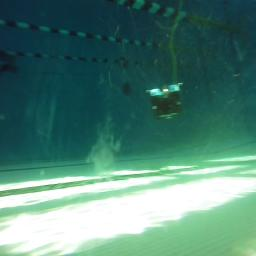front: (146, 82, 184, 119)
